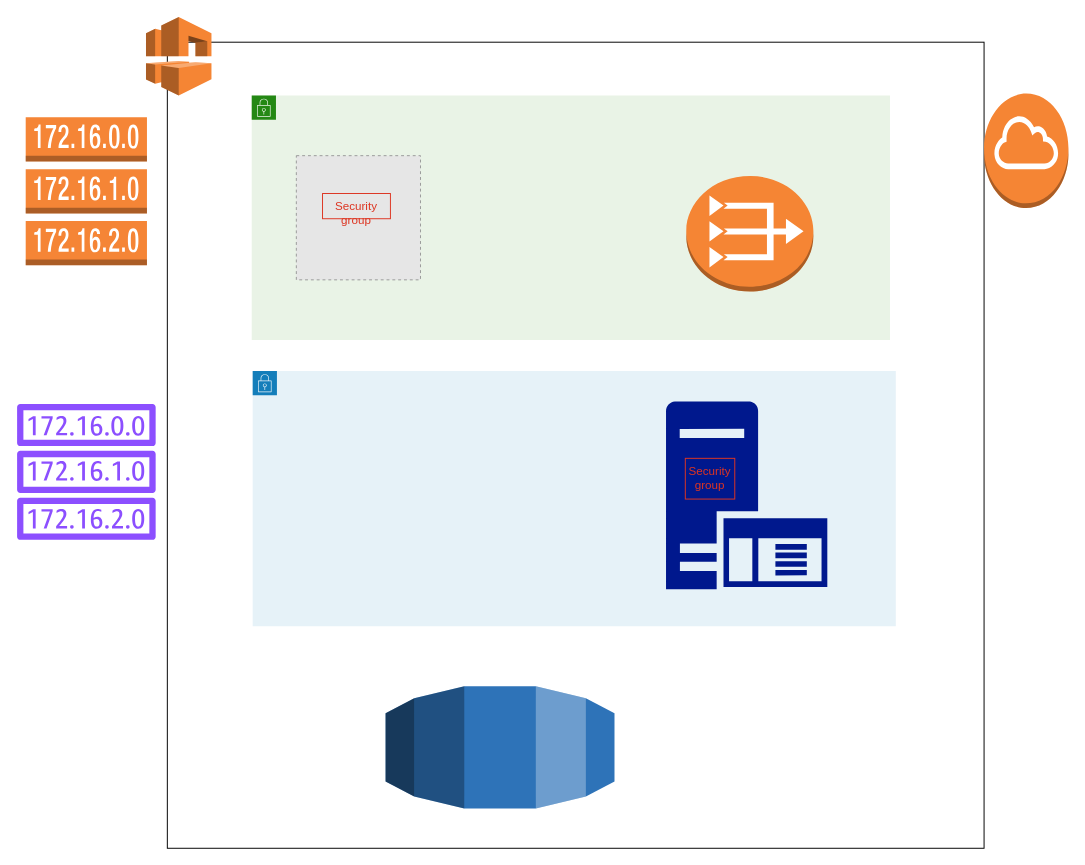
Some shapes in this 1085 by 865 pixel diagram are drawn without their labels. Grey dashed boxes stand in for pictures. The shapes that lost their labels are listed below. From the top down, each one's box as (x1, y1, x2, y2) in pixels, then its label:
(251, 95, 890, 340): Public subnet
(252, 370, 896, 626): Private subnet
